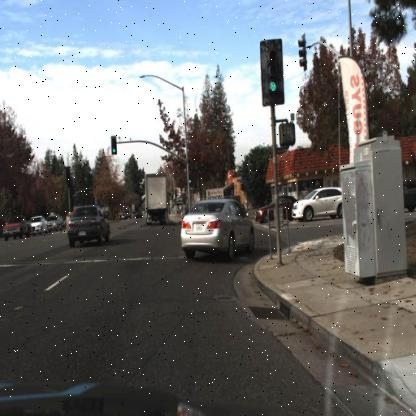car: (175, 191, 261, 275), (180, 195, 256, 263), (60, 194, 112, 254), (289, 184, 347, 222), (256, 194, 300, 224), (3, 209, 32, 246), (399, 170, 415, 224), (25, 208, 48, 240), (44, 206, 64, 238), (132, 202, 146, 221), (121, 203, 133, 220)
trafficLight-Green: (262, 69, 286, 103), (104, 140, 118, 162), (185, 168, 193, 191), (187, 171, 192, 187)
truck: (137, 168, 171, 232)
